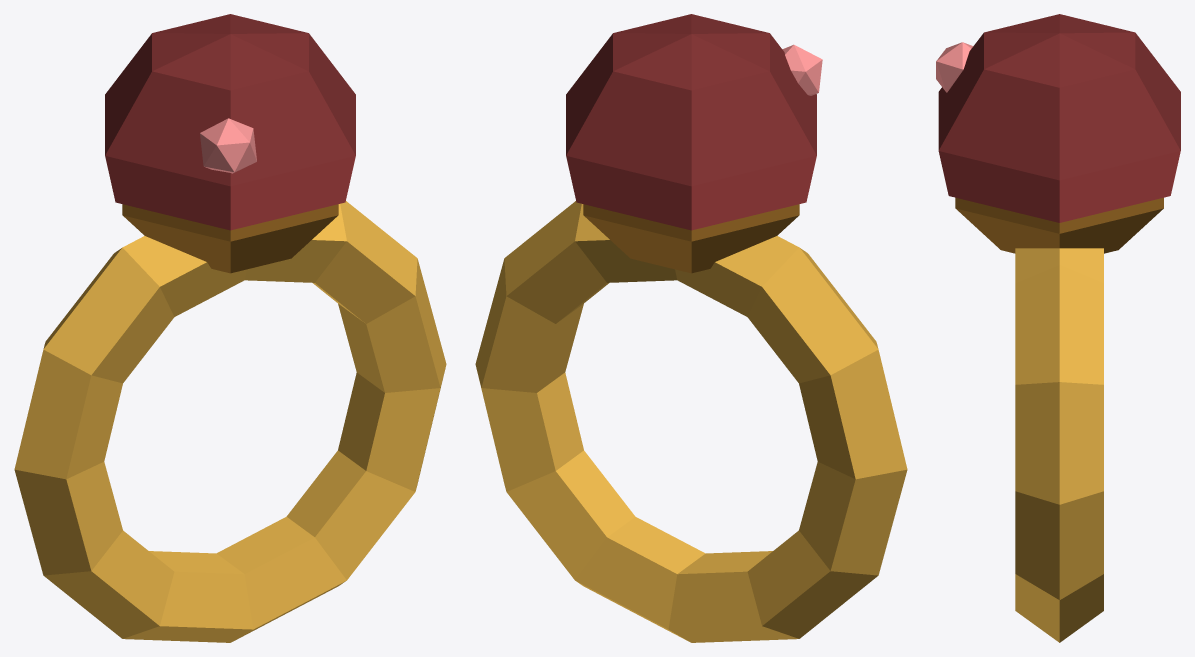
File: ring.glb
3 renders of one model, left to right at view 1: azimuth 30°, elevation 25°; view 2: azimuth 150°, elevation 25°; view 3: azimuth 270°, elevation 25°, orthographic. The views are drawn at different scales.
Visible parts, largest first — view 1: ring; view 2: ring; view 3: ring.
Boxes of the visible parts, x1=… form: ring: x1=14, y1=14, x2=446, y2=642; ring: x1=475, y1=14, x2=907, y2=642; ring: x1=936, y1=14, x2=1180, y2=642.
Bounding box in the file's own units: 0.248 × 0.334 × 0.126.
